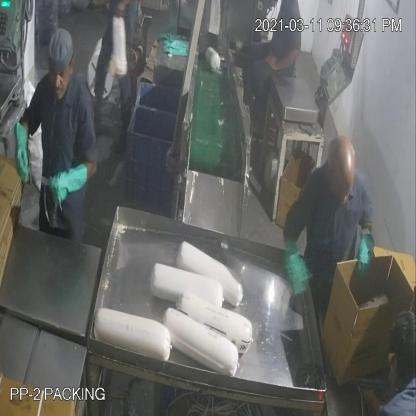no_glove: (259, 38, 302, 74)
